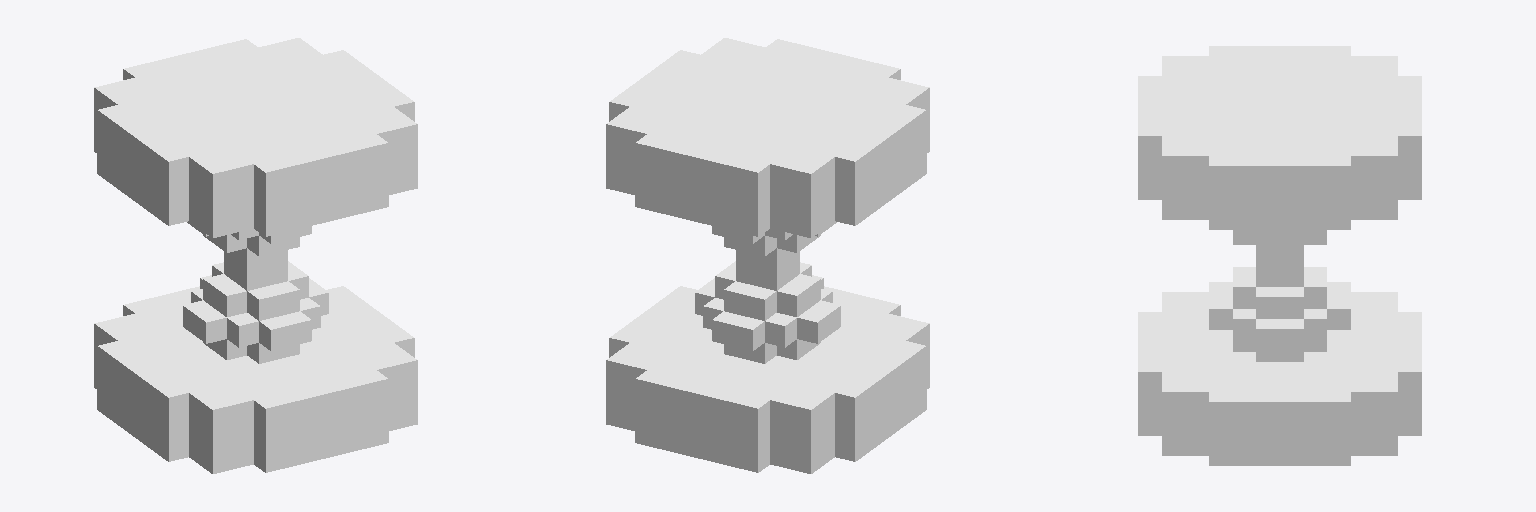
File: Capsule_Scan.obj
3 views of the same model, side by side, from view 1: azimuth 30°, elevation 25°; view 2: azimuth 150°, elevation 25°; view 3: azimuth 270°, elevation 25° (orthographic).
Parts seen in each view (by area): view 1: Capsule_Scan; view 2: Capsule_Scan; view 3: Capsule_Scan.
Part boxes in pixels (x1,y1,x2,y2): Capsule_Scan: (94,38,417,473); Capsule_Scan: (606,38,929,473); Capsule_Scan: (1138,46,1421,465).
Size of the model in its own units: 12 by 14 by 12.